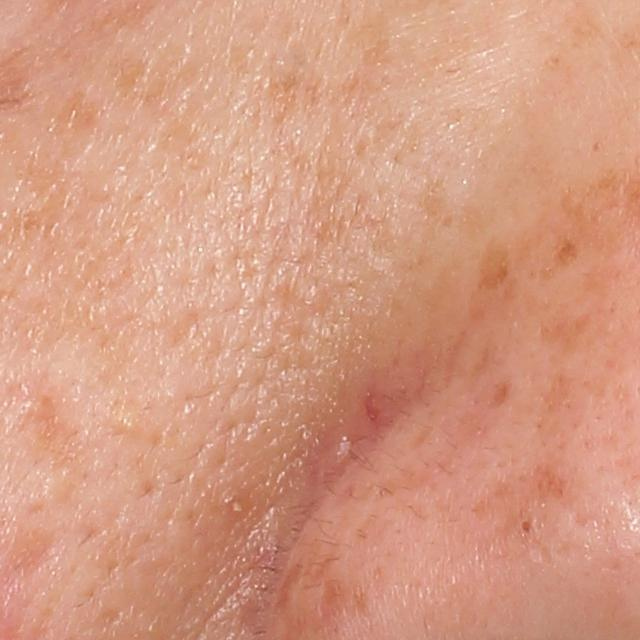comedo: (516, 517, 536, 540)
melasma: (265, 30, 398, 129), (466, 459, 568, 516), (106, 47, 195, 108), (44, 91, 113, 153), (525, 304, 595, 356), (472, 234, 522, 301), (264, 561, 306, 623), (541, 238, 586, 274), (484, 379, 516, 414)
